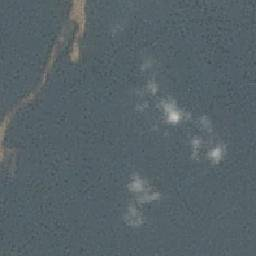cloud: (181, 112, 229, 170), (135, 62, 179, 124), (121, 172, 162, 233)
debris: (1, 111, 18, 172), (61, 1, 88, 33), (41, 43, 57, 88), (10, 91, 41, 109), (66, 36, 81, 65)
